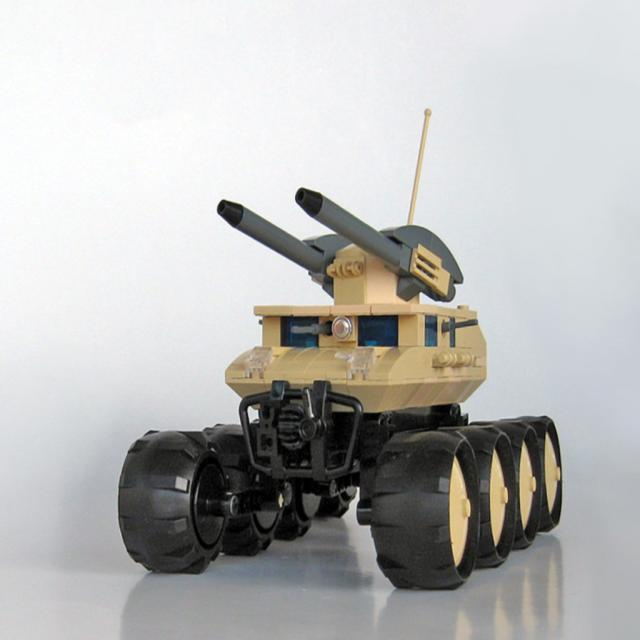tank: (117, 108, 562, 592)
